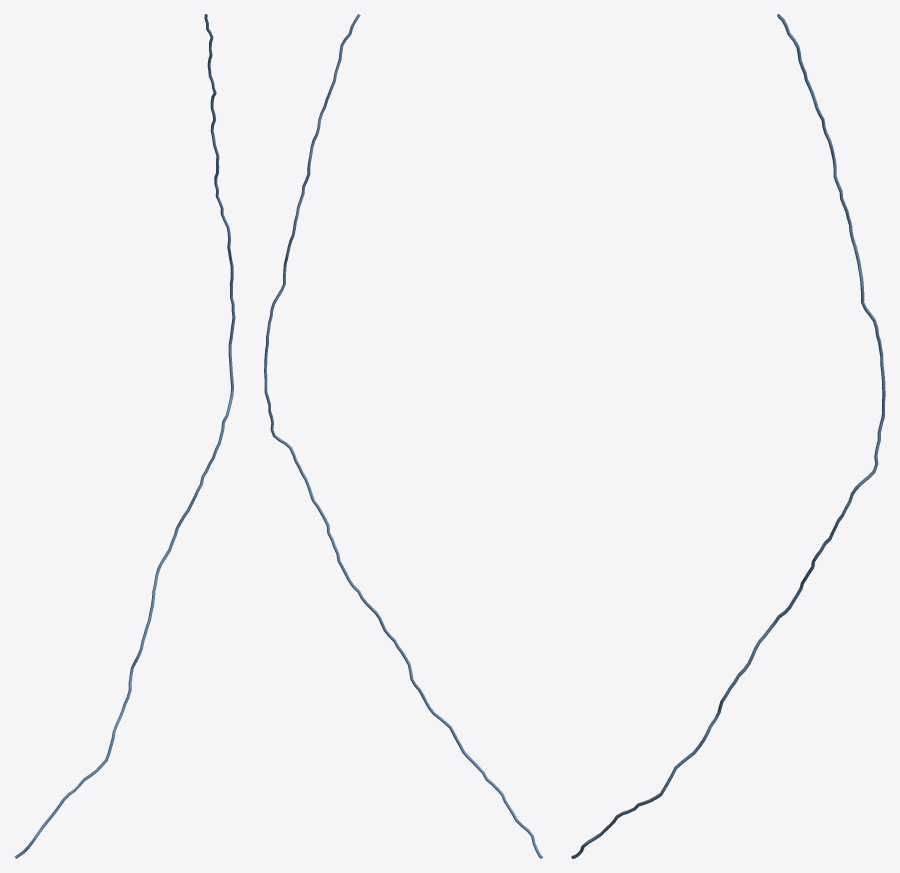
File: sweep100.fbx
The picture shows the model from 3 angles, left to right: view 1: azimuth 30°, elevation 25°; view 2: azimuth 150°, elevation 25°; view 3: azimuth 330°, elevation 25°; orthographic projection. The views are drawn at different scales.
Visible parts, largest first — view 1: sweep100; view 2: sweep100; view 3: sweep100.
Part boxes in pixels (x1,y1,x2,y2): sweep100: (14,14,235,858); sweep100: (264,14,542,858); sweep100: (571,14,885,858).
Size of the model in its own units: 1.88 by 5.75 by 0.5063.
